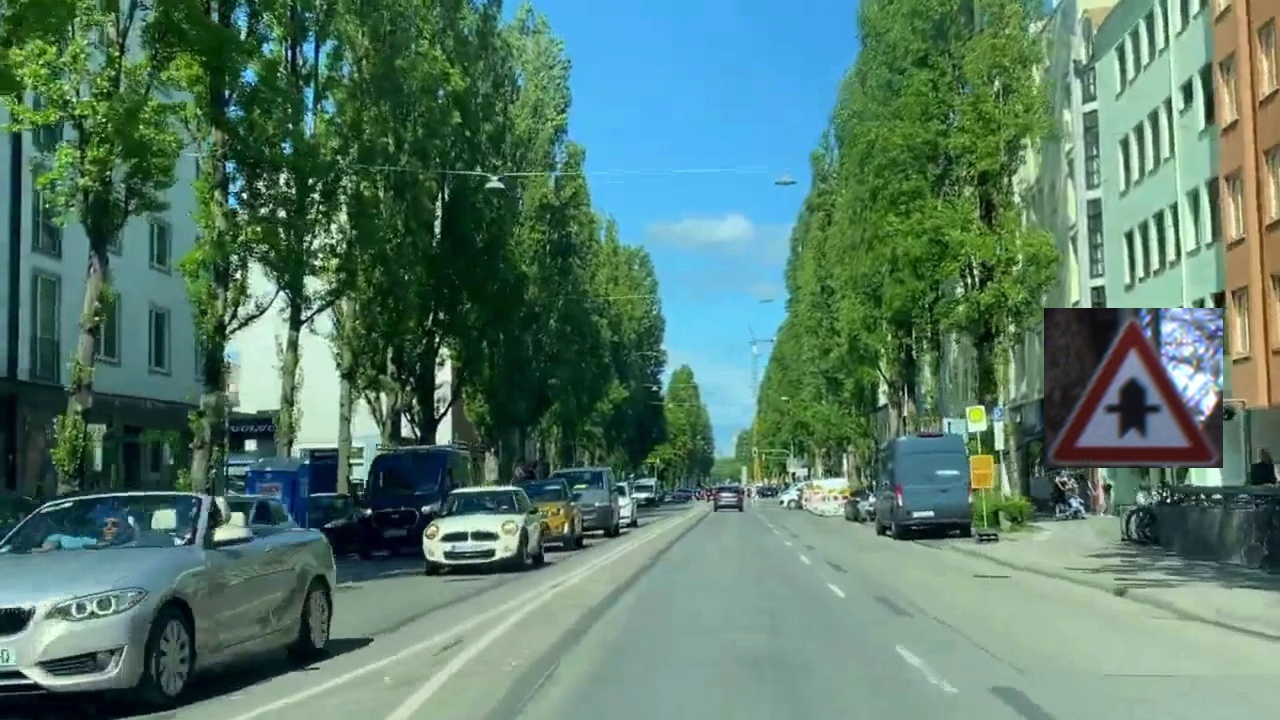Right-of-way: (1044, 308, 1223, 468)
